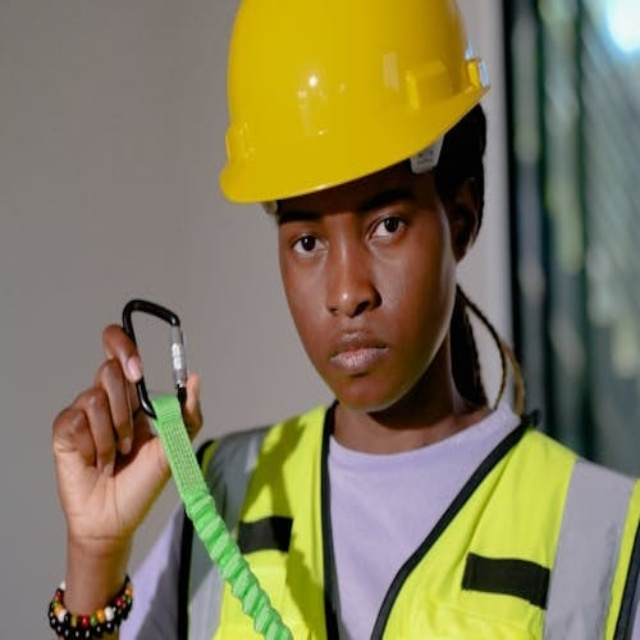Sin_gafas: (279, 179, 421, 270)
Sin_guantes: (52, 317, 199, 559)
Sin_mascara: (311, 321, 408, 391)
